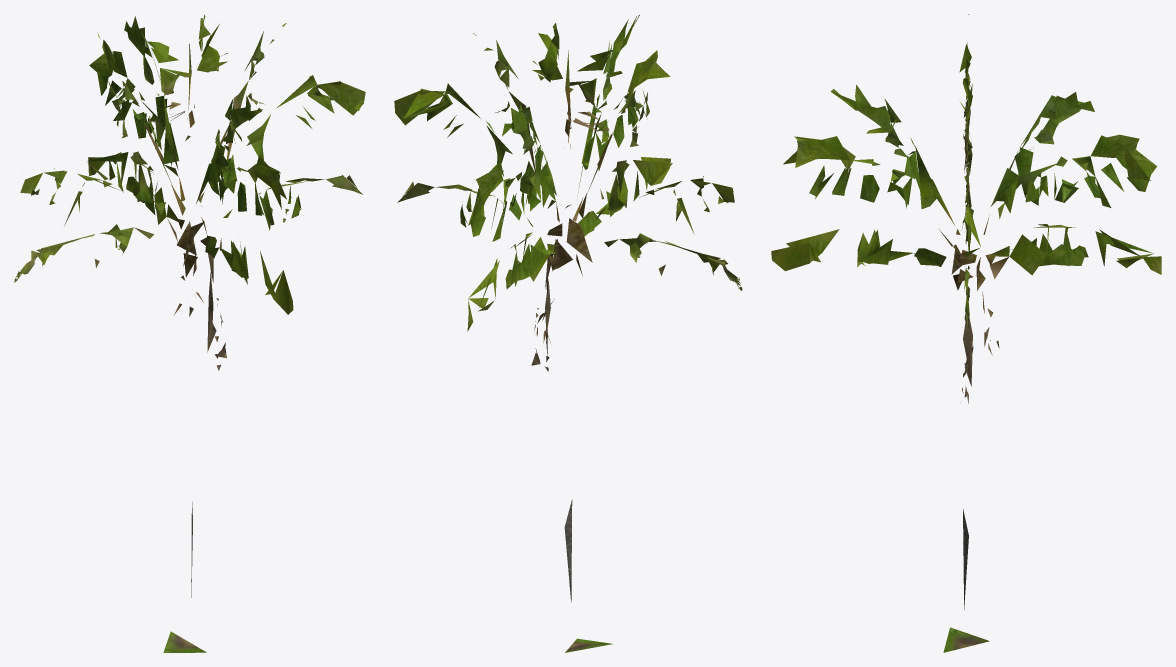
File: cay-dua.glb
3 views of the same model, side by side, from view 1: azimuth 30°, elevation 25°; view 2: azimuth 150°, elevation 25°; view 3: azimuth 270°, elevation 25° (orthographic). The views are drawn at different scales.
Visible parts, largest first — view 1: Cay_Dua_WEB; view 2: Cay_Dua_WEB; view 3: Cay_Dua_WEB.
Boxes of the visible parts, x1,y1,x2,y2 form: Cay_Dua_WEB: (14, 14, 365, 652); Cay_Dua_WEB: (394, 15, 742, 652); Cay_Dua_WEB: (771, 14, 1161, 652).
Bounding box in the file's own units: 7.59 × 12.96 × 7.66.
Materials: 1 (1 with a texture image).
